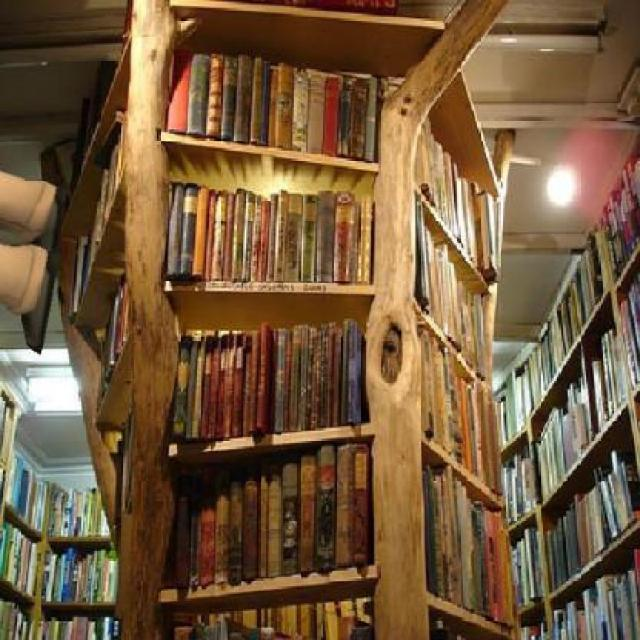Person: (0, 162, 71, 353)
